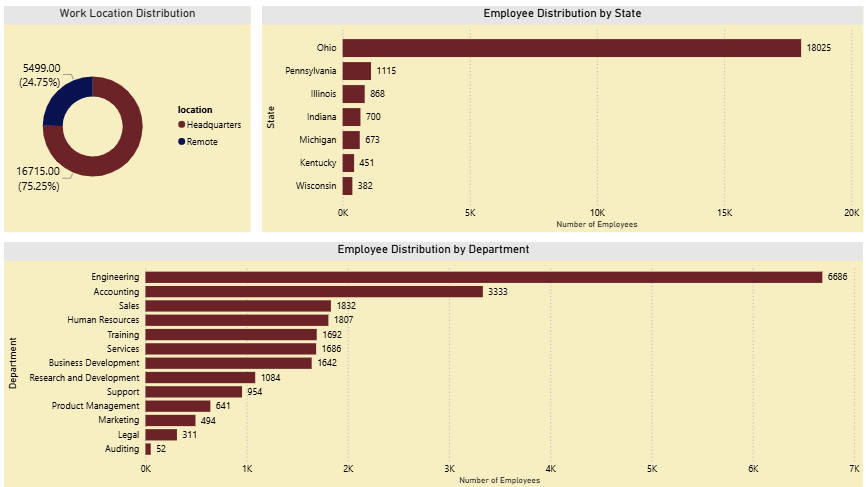

The page's visual inventory and layout, read from the dashboard file:
{"tool":"powerbi","page":{"name":"Workforce Distribution","canvas":[1280,720],"ordinal":2},"visuals":[{"type":"clusteredBarChart","title":"Employee Distribution by Department","fields":{"Y":["CountNonNull(HR.id)"],"Category":["HR.department"]},"box":[11.7,14.6,617.6,345.4],"z":0},{"type":"clusteredBarChart","title":"Employee Distribution by State","fields":{"Y":["CountNonNull(HR.id)"],"Category":["HR.location_state"]},"box":[639.5,14.6,627.8,345.4],"z":1},{"type":"donutChart","title":"Employee Gender Distribution","fields":{"Y":["CountNonNull(HR.id)"],"Category":["HR.location"]},"box":[11.7,370.2,617.6,339.5],"z":2}]}

Visuals, with their boxes in screenshot pixels (x1, y1, x2, y2), scaled from the page's 1280x720 canvas onto the 866x487 screenshot:
"Employee Distribution by Department" clusteredBarChart: l=8, t=10, r=426, b=244
"Employee Distribution by State" clusteredBarChart: l=433, t=10, r=857, b=244
"Employee Gender Distribution" donutChart: l=8, t=250, r=426, b=480
